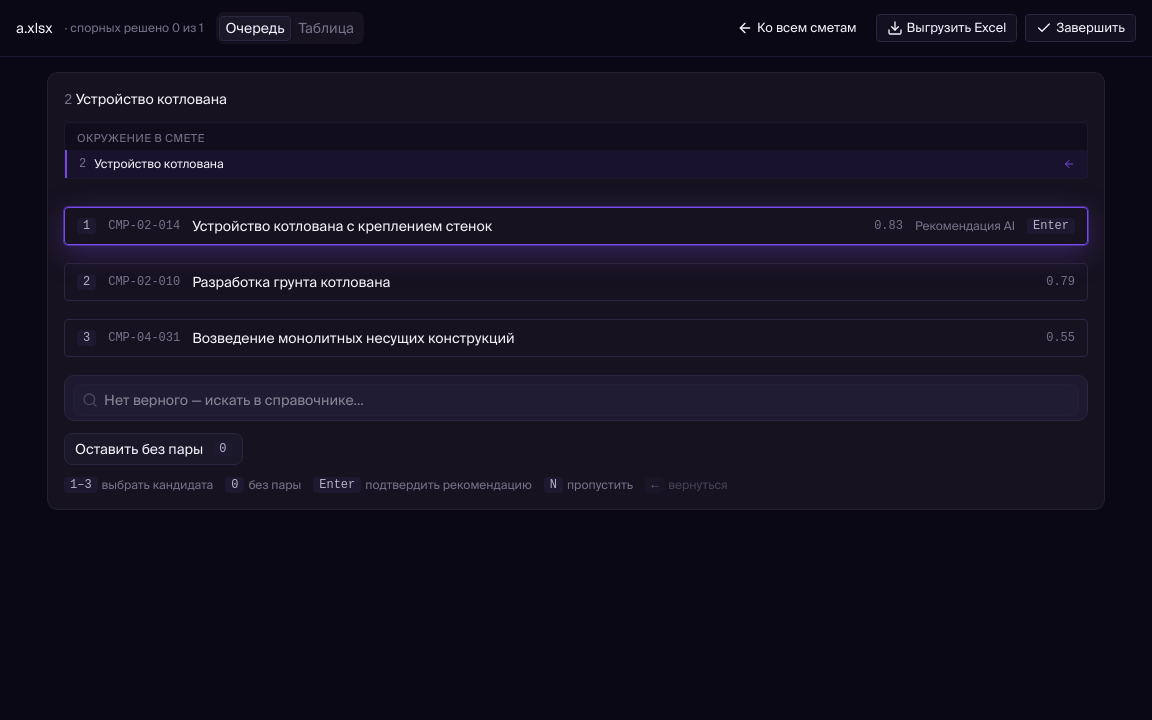
Test: EstimatePage › «Завершить» дергает setCompletion и показывает итог
The image size is (1152, 720).
Note: имя точное, не regex: после открытия диалога /Завершить/ матчил бы две кнопки
Click the button "Завершить" at (1081, 28), box [1025,14,1136,42]
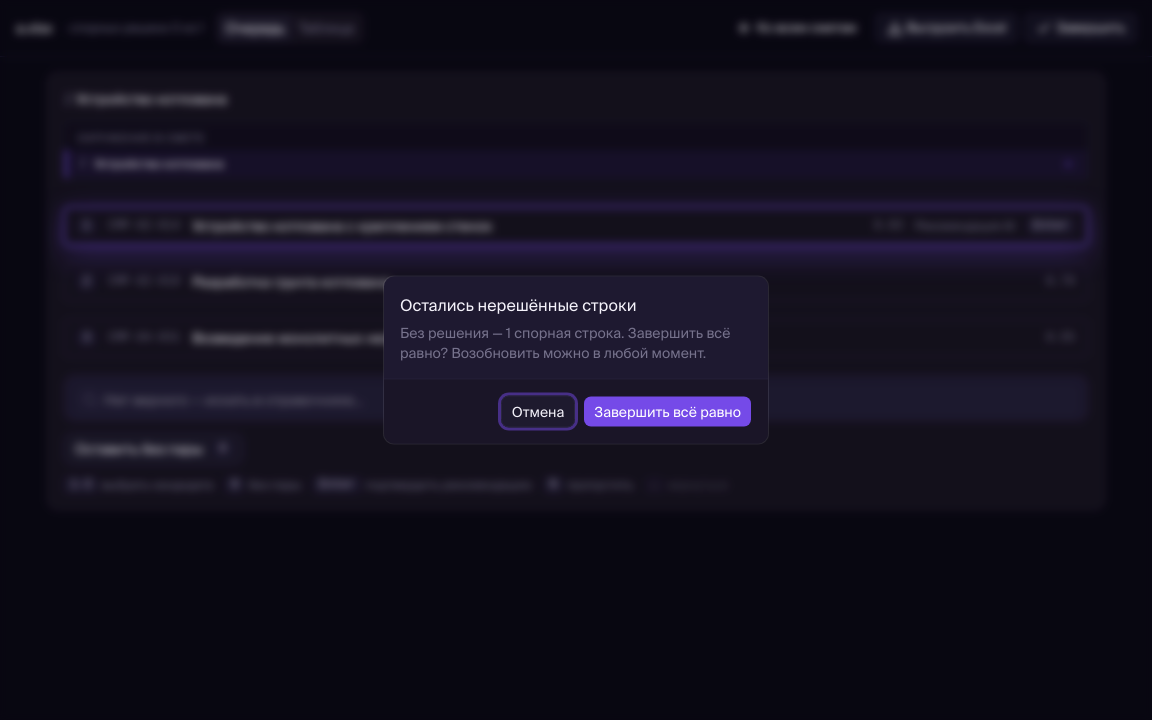
Note: строка нерешённая → AlertDialog «осталось N спорных»
Click the button "Завершить всё равно" at (668, 412), box [583,396,752,428]
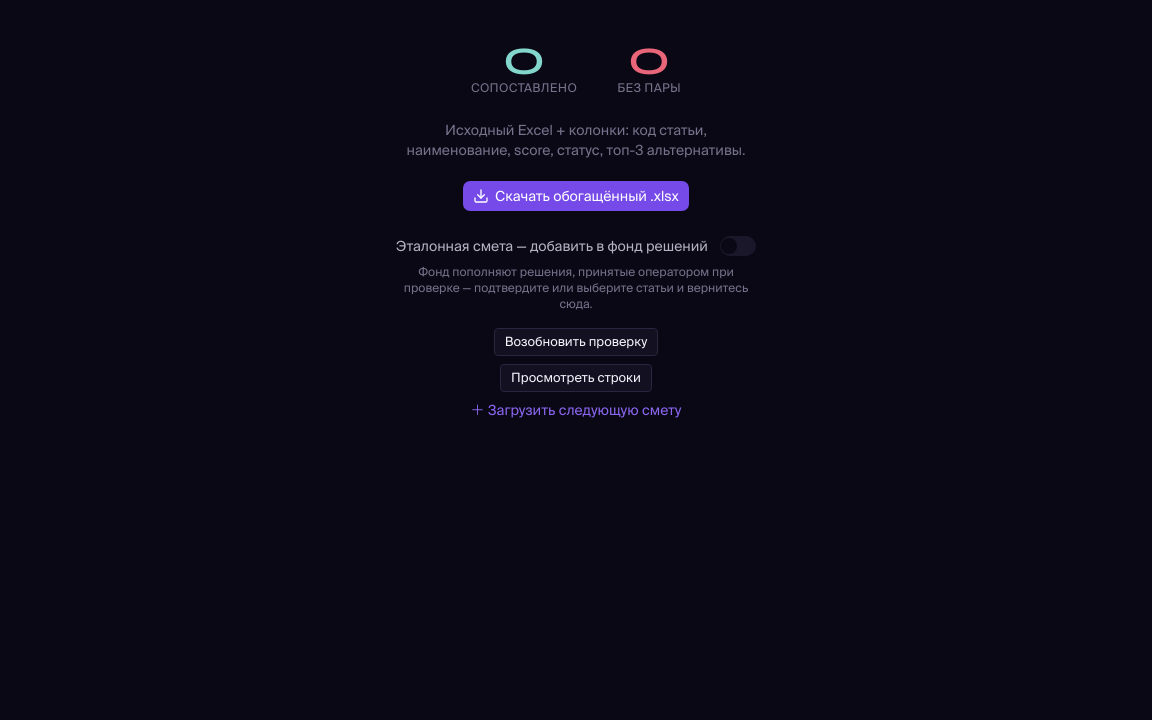
Now the button "Возобновить проверку" is shown, box [494,328,658,356]
